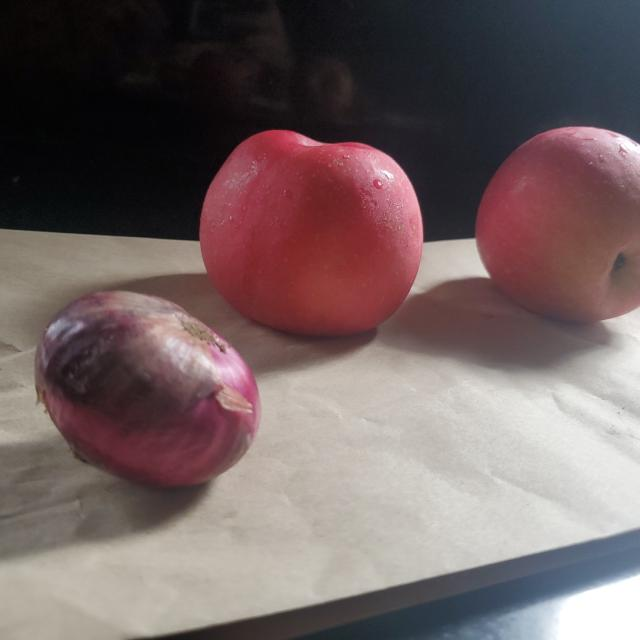apple: (199, 135, 423, 338), (472, 128, 636, 325)
onion: (34, 291, 261, 494)
